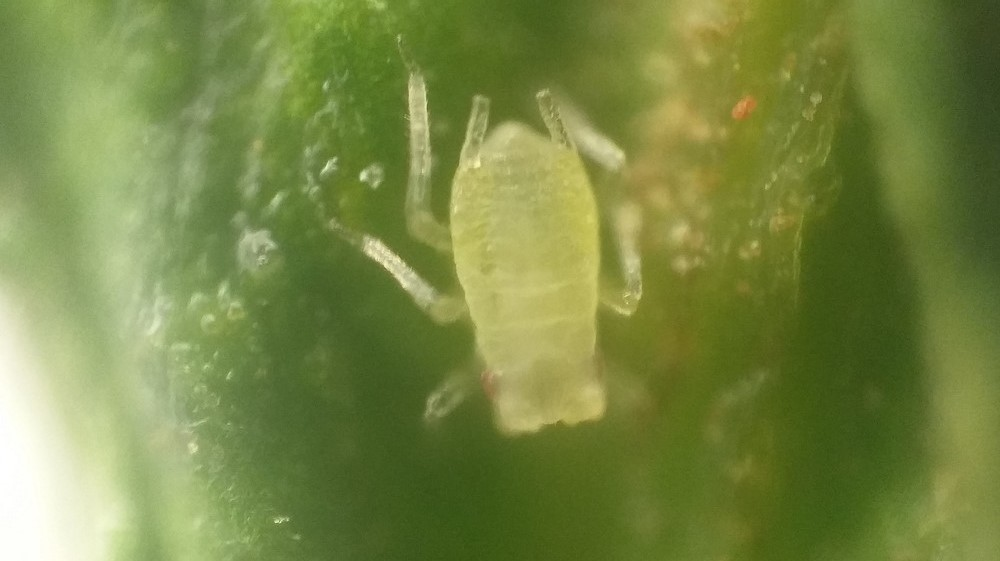Pulgon: (301, 24, 715, 475)
